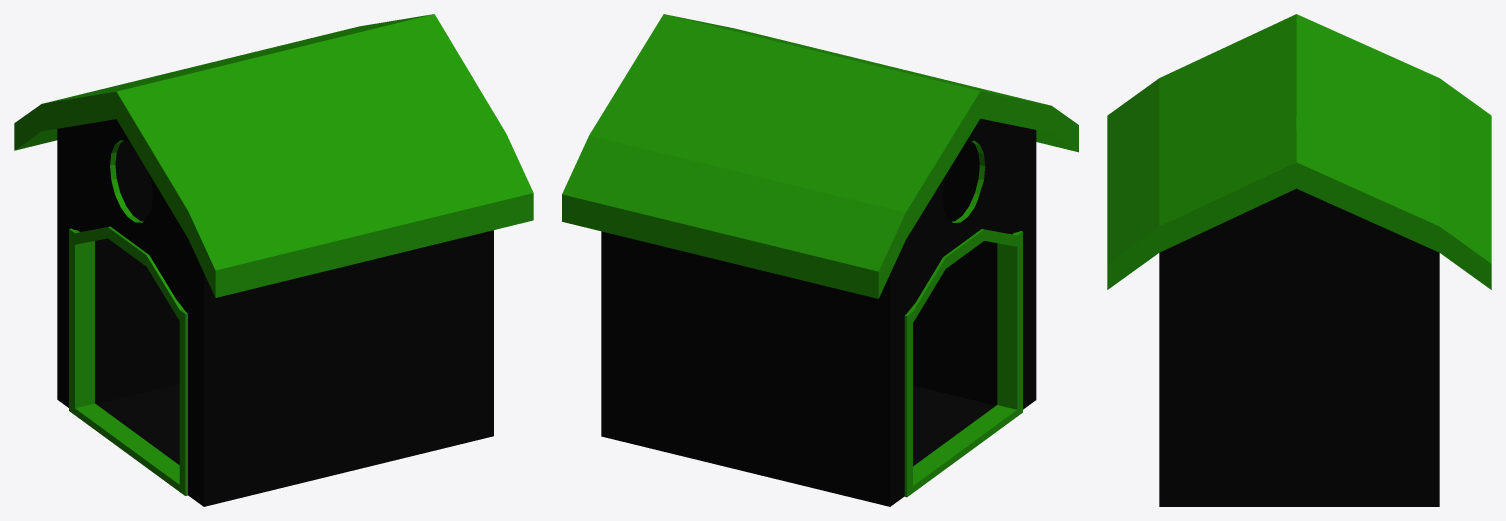
Rendered from DogHouse_AD.fbx.
The picture shows the model from 3 angles, left to right: view 1: azimuth 30°, elevation 25°; view 2: azimuth 150°, elevation 25°; view 3: azimuth 270°, elevation 25°; orthographic projection. The views are drawn at different scales.
Parts seen in each view (by area): view 1: DogHouse_AD; view 2: DogHouse_AD; view 3: DogHouse_AD.
Part boxes in pixels (left/top/right/bottom): DogHouse_AD: left=14, top=14, right=533, bottom=506; DogHouse_AD: left=562, top=14, right=1078, bottom=506; DogHouse_AD: left=1107, top=14, right=1491, bottom=506.
Size of the model in its own units: 117 by 129 by 128.
